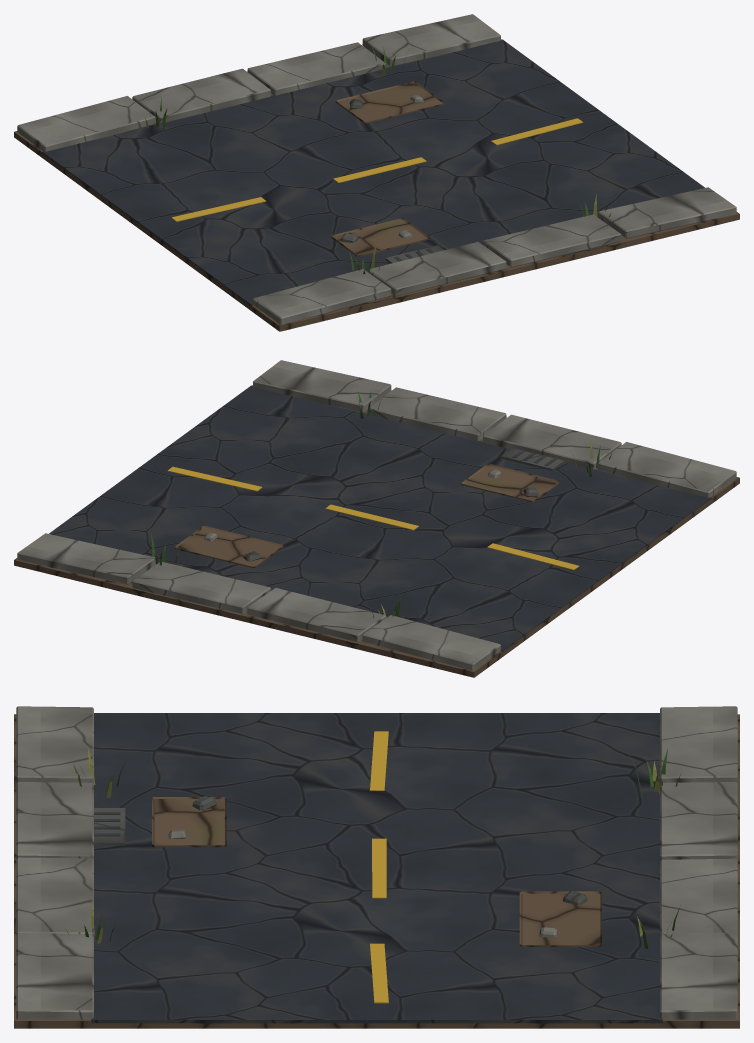
File: env_road_cracked_asphalt.glb
3 views of the same model, one above another, from view 1: azimuth 30°, elevation 25°; view 2: azimuth 150°, elevation 25°; view 3: azimuth 270°, elevation 25° (orthographic). The views are drawn at different scales.
Parts seen in each view (by area): view 1: Env_road_cracked_asphalt; view 2: Env_road_cracked_asphalt; view 3: Env_road_cracked_asphalt.
Part boxes in pixels (left/top/right/bottom): Env_road_cracked_asphalt: left=14, top=14, right=739, bottom=331; Env_road_cracked_asphalt: left=14, top=360, right=739, bottom=677; Env_road_cracked_asphalt: left=14, top=706, right=739, bottom=1028.
Size of the model in its own units: 6 by 0.4199 by 6.
8 materials, 7 textured.
